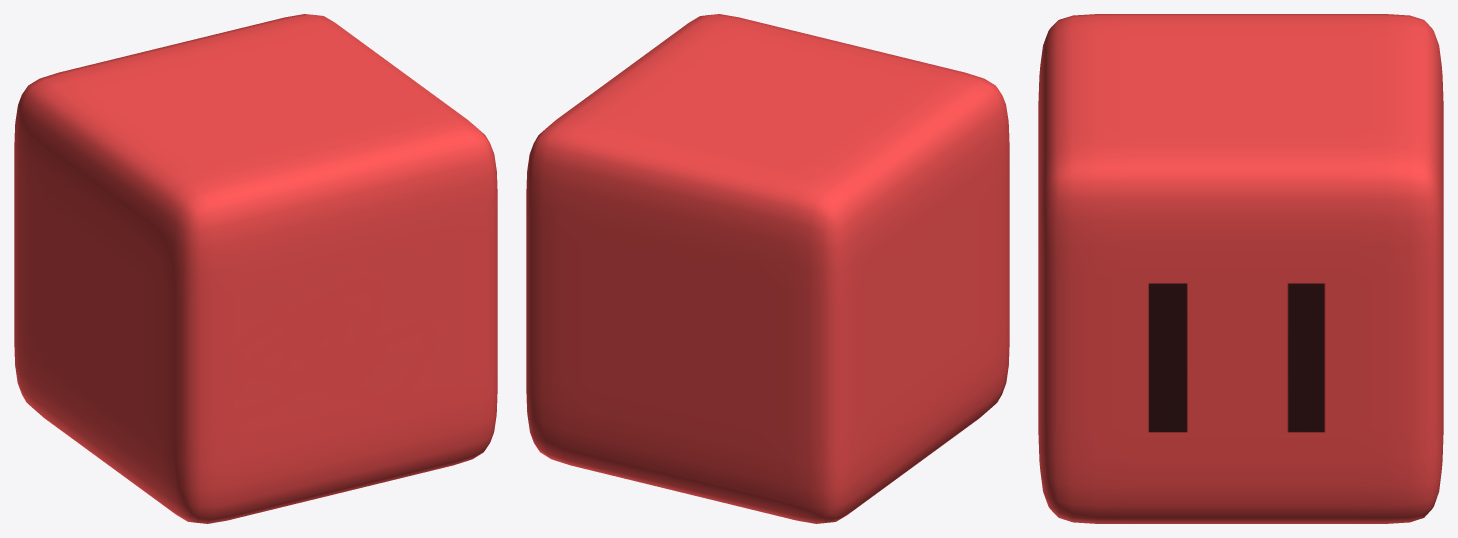
File: slimebattler.fbx
The picture shows the model from 3 angles, left to right: view 1: azimuth 30°, elevation 25°; view 2: azimuth 150°, elevation 25°; view 3: azimuth 270°, elevation 25°; orthographic projection. The views are drawn at different scales.
Parts seen in each view (by area): view 1: Cube; view 2: Cube; view 3: Cube.
Boxes of the visible parts, x1,y1,x2,y2 form: Cube: (14, 14, 497, 523); Cube: (526, 14, 1009, 523); Cube: (1038, 14, 1443, 523).
Size of the model in its own units: 200 by 200 by 200.
